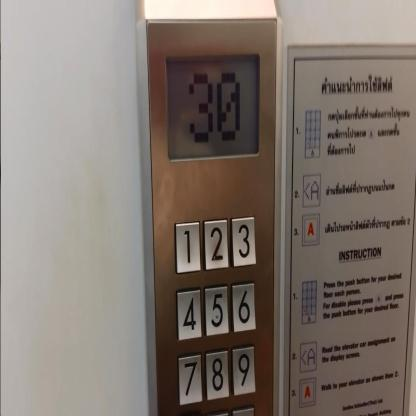1: (173, 219, 201, 274)
2: (202, 217, 229, 270)
3: (230, 215, 256, 267)
4: (174, 286, 202, 340)
5: (202, 282, 228, 336)
6: (230, 280, 256, 333)
7: (176, 350, 203, 406)
8: (204, 346, 230, 400)
9: (230, 342, 256, 395)
led: (164, 52, 262, 163)
